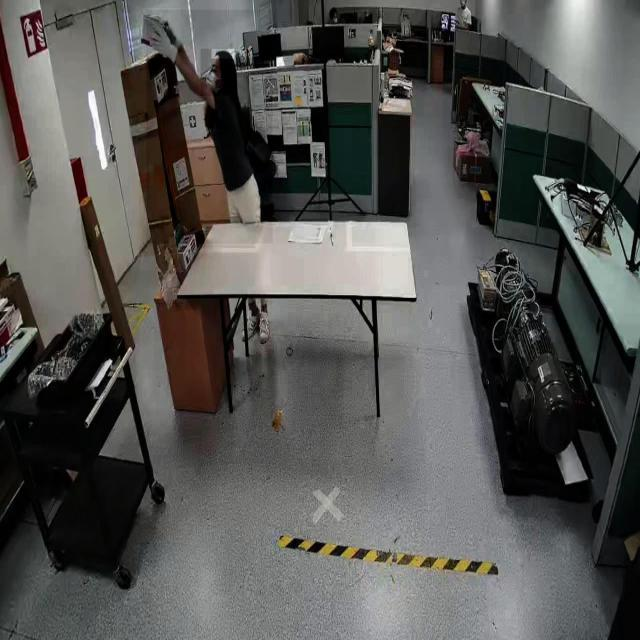face_mask: (201, 49, 227, 97)
hand_glove: (142, 8, 181, 82)
head_nohelmet: (211, 49, 235, 59)
person: (147, 10, 273, 244)
shoes: (240, 306, 260, 340), (257, 309, 273, 345)
